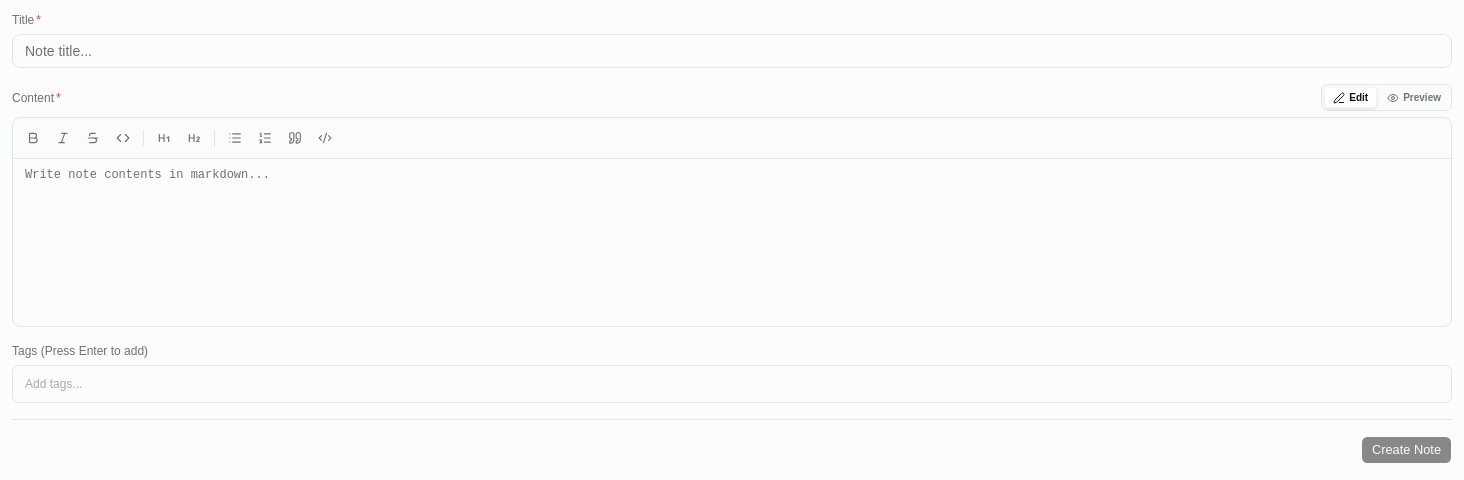
NoteForm › adds tag by typing and pressing Enter when no suggestion is highlighted
The width and height of the screenshot is (1464, 480).
Type "mytag" into the field labelled "Tags (Press Enter to add)" at {"x": 732, "y": 384}, box 25,374 -> 1439,394
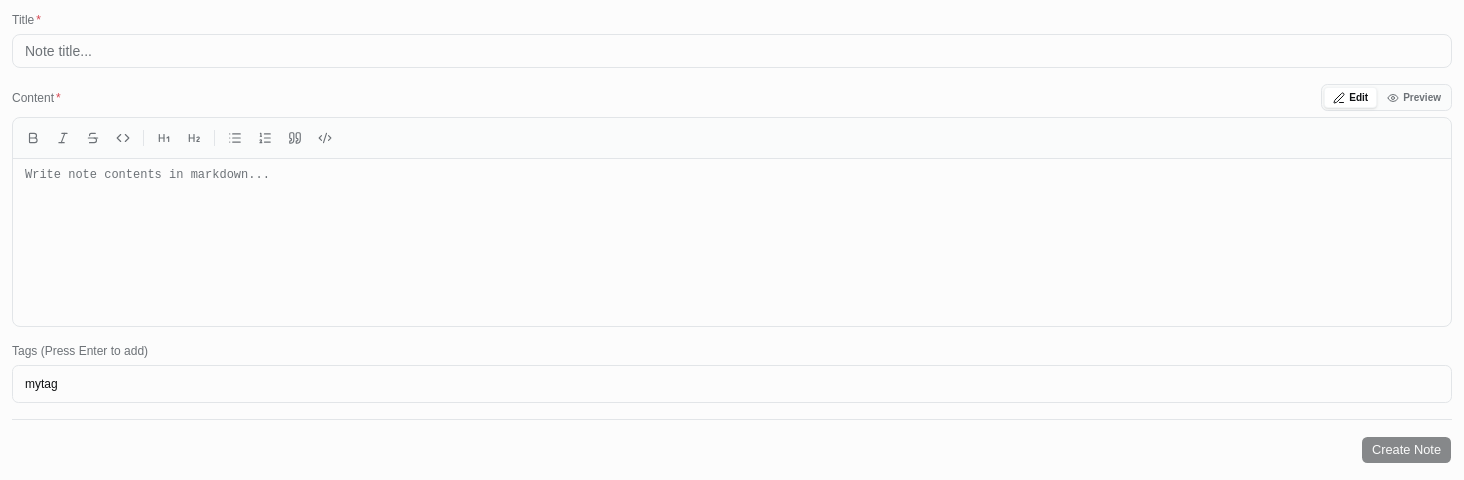
Press Enter in the field labelled "Tags (Press Enter to add)", box 25,374 -> 1439,394
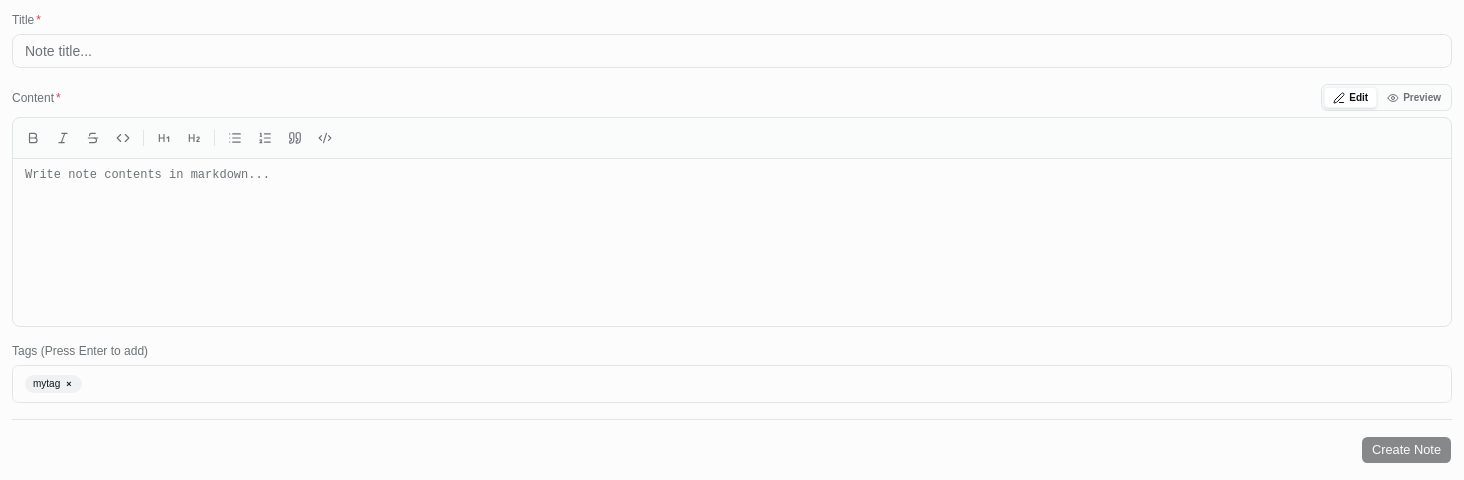
Check: the field labelled "Tags (Press Enter to add)" is empty, box 88,374 -> 1439,394
Check: the text "mytag" is shown, box 33,377 -> 60,391
